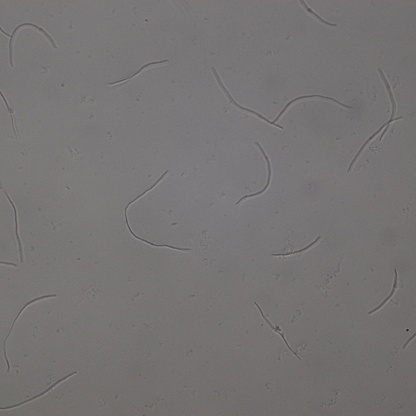Sensitive: (123, 169, 191, 251), (212, 67, 283, 130), (3, 293, 56, 370), (1, 372, 76, 411), (1, 20, 61, 68), (350, 117, 403, 170), (256, 303, 301, 360), (273, 90, 353, 122), (238, 142, 273, 204), (111, 57, 169, 86), (1, 186, 21, 261), (379, 67, 398, 141), (368, 269, 399, 313), (273, 234, 321, 256), (298, 1, 337, 27)
